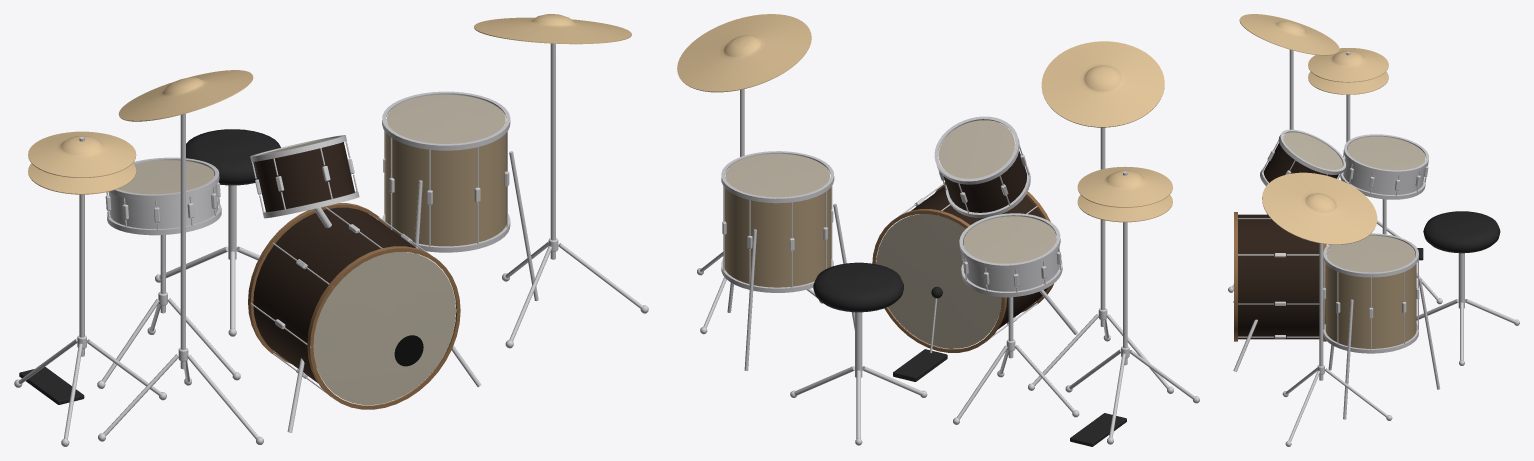
The model's file is drum_kit.glb.
3 renders of one model, left to right at view 1: azimuth 30°, elevation 25°; view 2: azimuth 150°, elevation 25°; view 3: azimuth 270°, elevation 25°, orthographic. The views are drawn at different scales.
Visible parts, largest first — view 1: kick, floor_tom, drum_kit, snare, rack_tom, hi_hat (×2), crash, ride; view 2: drum_kit, floor_tom, kick, crash, ride, rack_tom, snare, hi_hat (×2); view 3: floor_tom, kick, drum_kit, ride, snare, hi_hat (×2), rack_tom, crash.
Boxes of the visible parts, x1,y1,x2,y2 form: kick: (248,203,460,409); floor_tom: (382,91,510,252); drum_kit: (14,43,648,446); snare: (105,157,221,235); rack_tom: (250,135,359,218); hi_hat (×2): (28,131,136,194); crash: (118,70,253,121); ride: (474,14,631,44); drum_kit: (697,89,1199,446); floor_tom: (721,151,834,292); kick: (872,182,1058,352); crash: (1041,41,1164,127); ride: (677,14,811,92); rack_tom: (934,116,1030,217); snare: (959,213,1062,297); hi_hat (×2): (1077,166,1172,222); floor_tom: (1323,233,1419,353); kick: (1234,212,1326,341); drum_kit: (1228,49,1519,446); ride: (1262,172,1377,244); snare: (1340,134,1429,199); hi_hat (×2): (1308,48,1388,94); rack_tom: (1260,129,1345,186); crash: (1239,14,1339,55).
Bounding box in the file's own units: 2.19 × 1.27 × 1.29.
